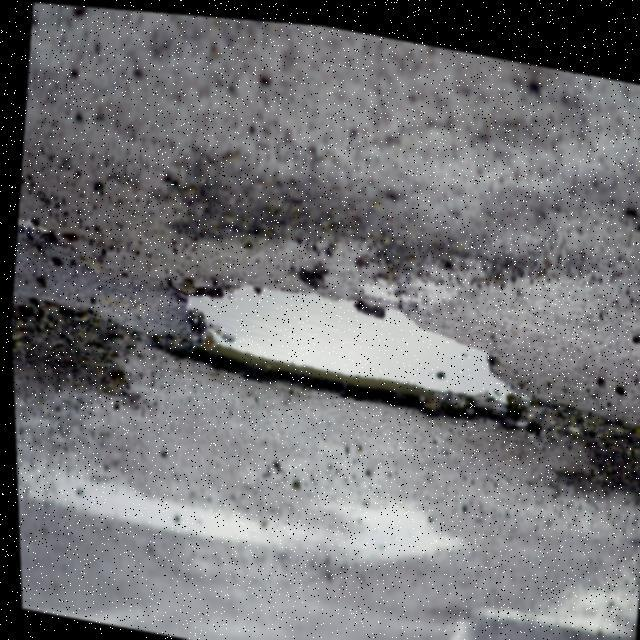pothole: (165, 244, 535, 431)
